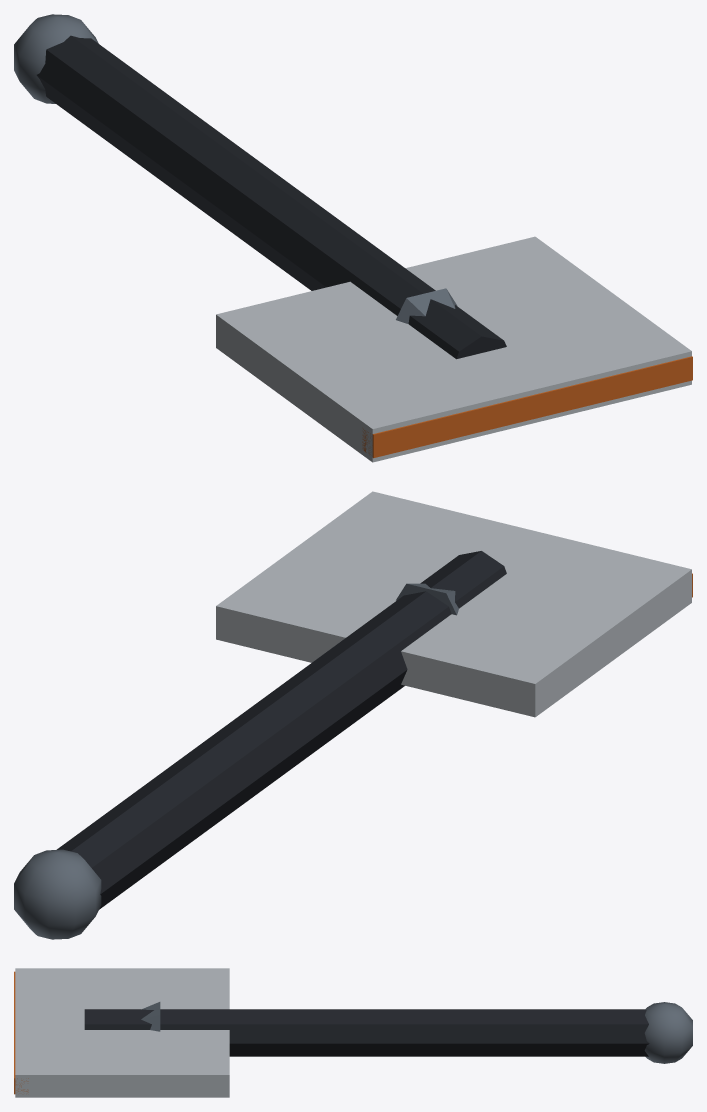
The model's file is vibro-axe.glb.
The picture shows the model from 3 angles, top to bottom: view 1: azimuth 30°, elevation 25°; view 2: azimuth 150°, elevation 25°; view 3: azimuth 270°, elevation 25°; orthographic projection. The views are drawn at different scales.
Parts seen in each view (by area): view 1: vibro-axe; view 2: vibro-axe; view 3: vibro-axe.
Boxes of the visible parts, x1,y1,x2,y2 form: vibro-axe: (14, 14, 692, 462); vibro-axe: (14, 491, 692, 939); vibro-axe: (14, 968, 692, 1097).
Bounding box in the file's own units: 0.2 × 0.05 × 0.5386.
